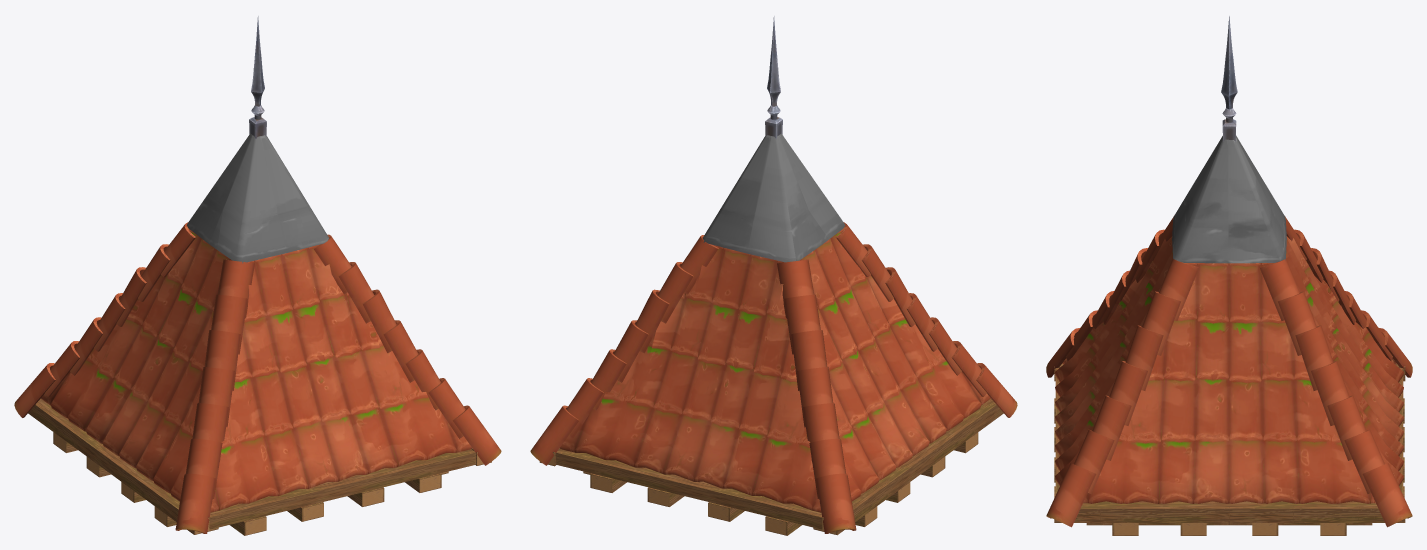
Rendered from Roof_Tower_RoundTiles.glb.
The picture shows the model from 3 angles, left to right: view 1: azimuth 30°, elevation 25°; view 2: azimuth 150°, elevation 25°; view 3: azimuth 270°, elevation 25°; orthographic projection. The views are drawn at different scales.
Visible parts, largest first — view 1: Roof_Tower_RoundTiles; view 2: Roof_Tower_RoundTiles; view 3: Roof_Tower_RoundTiles.
Boxes of the visible parts, x1,y1,x2,y2 form: Roof_Tower_RoundTiles: (14, 16, 501, 535); Roof_Tower_RoundTiles: (530, 16, 1017, 535); Roof_Tower_RoundTiles: (1046, 16, 1412, 535).
Bounding box in the file's own units: 5.65 × 7.36 × 5.43.
4 materials, 4 textured.
